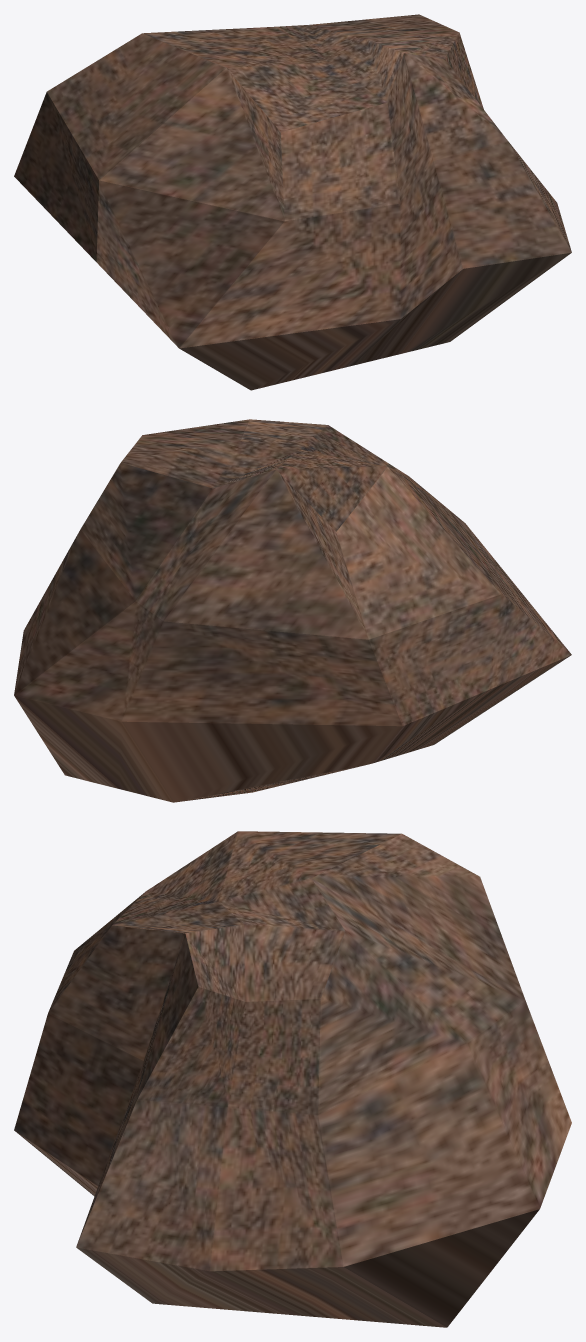
The model's file is Rocks.glb.
3 renders of one model, top to bottom at view 1: azimuth 30°, elevation 25°; view 2: azimuth 150°, elevation 25°; view 3: azimuth 270°, elevation 25°, orthographic. The views are drawn at different scales.
Parts seen in each view (by area): view 1: Cube.001; view 2: Cube.001; view 3: Cube.001.
Boxes of the visible parts, x1=… form: Cube.001: x1=14, y1=14, x2=571, y2=390; Cube.001: x1=14, y1=419, x2=571, y2=802; Cube.001: x1=14, y1=831, x2=571, y2=1327.
Size of the model in its own units: 1.85 by 1.29 by 1.67.
1 material, 1 textured.
